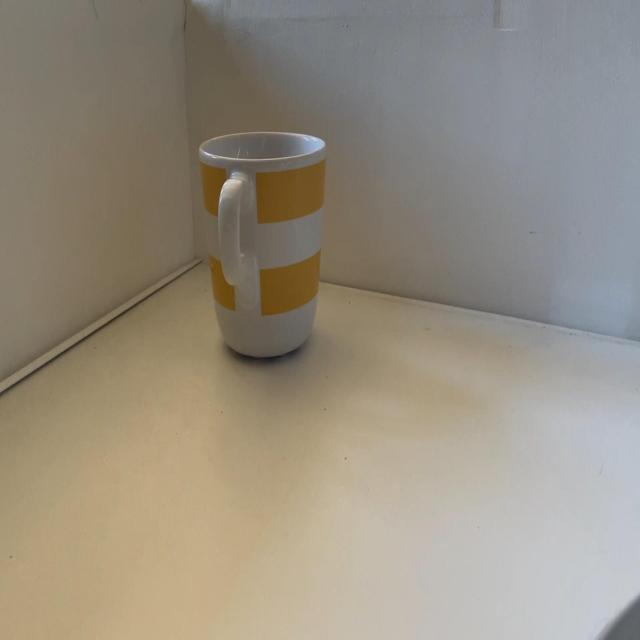cup: (200, 130, 328, 361)
